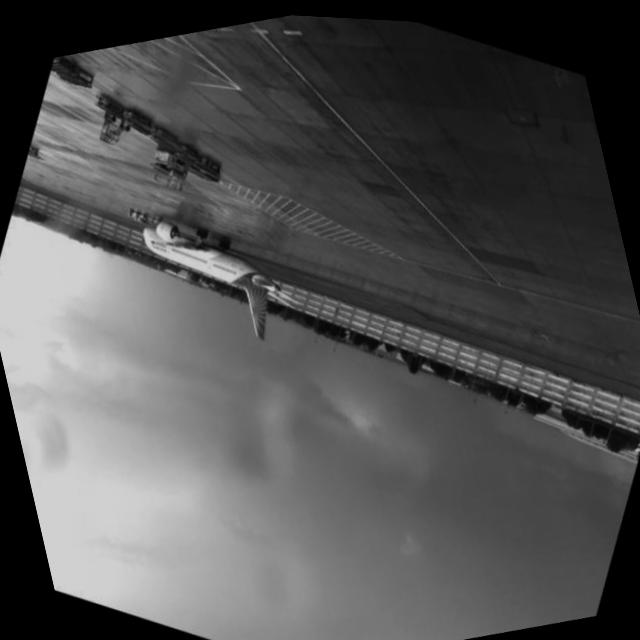aeroplane: (100, 173, 326, 382)
